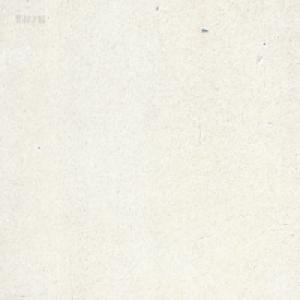Nail: (201, 27, 208, 32)
